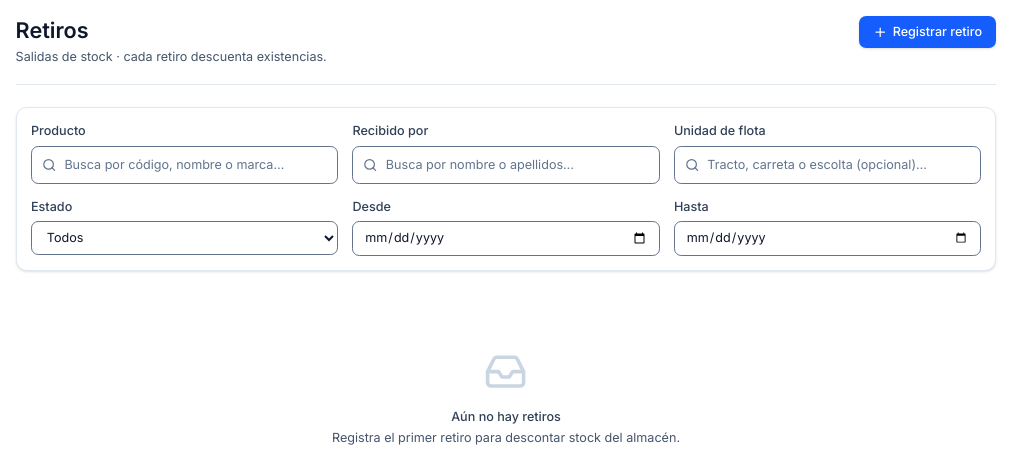
WithdrawalsListPage › muestra el estado vacío de filtros cuando hay filtros activos y cero resultados
Expected: the text "Aún no hay retiros" is shown, [451, 408, 561, 426]
Select "Anulados" in the dropdown labelled "Estado" at (185, 238), box [31, 221, 338, 255]
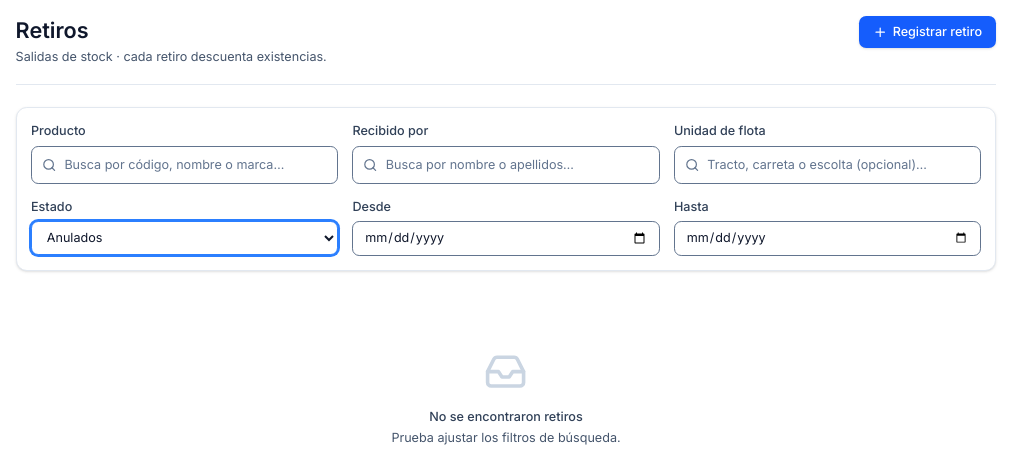
Expected: the text "No se encontraron retiros" is shown, [429, 408, 583, 426]
